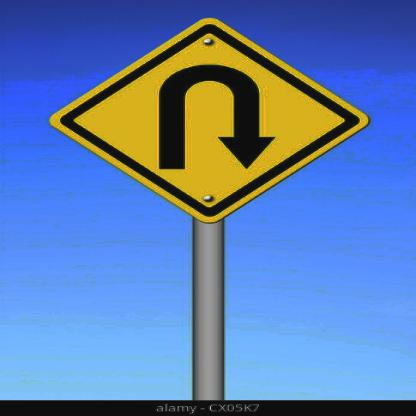U-turn: (47, 19, 372, 226)
